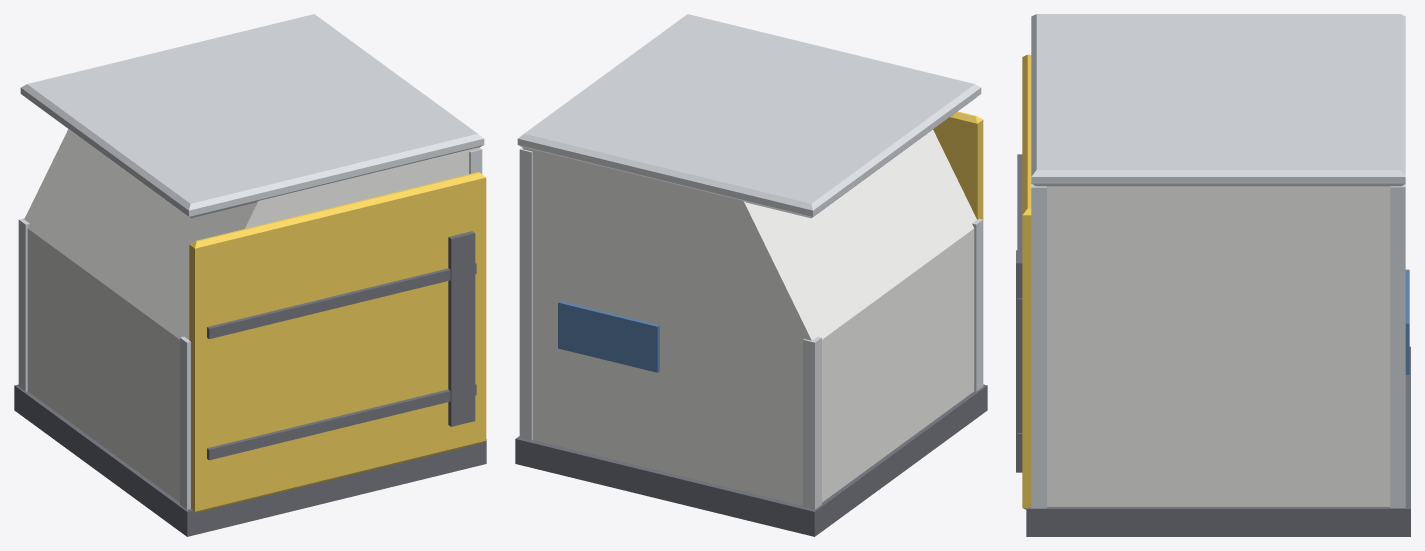
The model's file is airport-terminal-and-ground-operations-uld-container-ecd460ec__26061.glb.
3 renders of one model, left to right at view 1: azimuth 30°, elevation 25°; view 2: azimuth 150°, elevation 25°; view 3: azimuth 270°, elevation 25°, orthographic. The views are drawn at different scales.
Visible parts, largest first — view 1: uld-container; view 2: uld-container; view 3: uld-container.
Boxes of the visible parts, x1,y1,x2,y2 form: uld-container: (14, 14, 486, 536); uld-container: (515, 14, 987, 536); uld-container: (1016, 14, 1410, 536).
Bounding box in the file's own units: 1.5 × 1.57 × 1.54.
